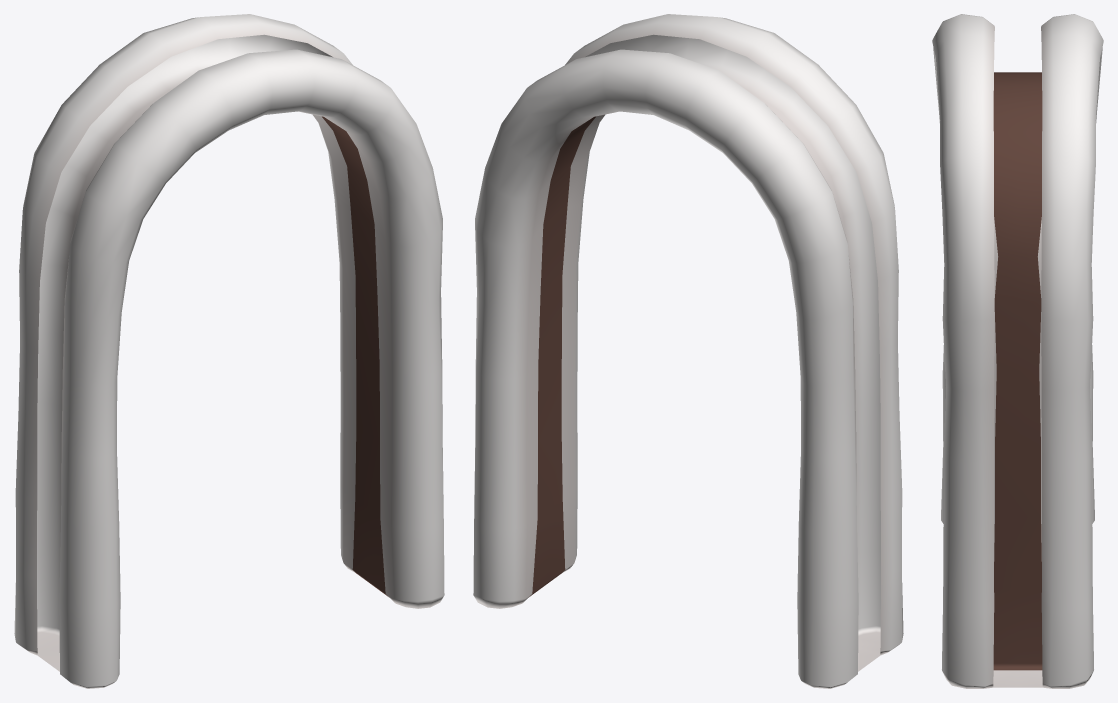
File: Doorway_001.fbx
3 views of the same model, side by side, from view 1: azimuth 30°, elevation 25°; view 2: azimuth 150°, elevation 25°; view 3: azimuth 270°, elevation 25° (orthographic). The views are drawn at different scales.
Parts seen in each view (by area): view 1: Doorway_001; view 2: Doorway_001; view 3: Doorway_001.
Part boxes in pixels (left/top/right/bottom): Doorway_001: left=14, top=14, right=444, bottom=688; Doorway_001: left=473, top=14, right=903, bottom=688; Doorway_001: left=932, top=14, right=1103, bottom=688.
Size of the model in its own units: 163 by 66.51 by 243.
